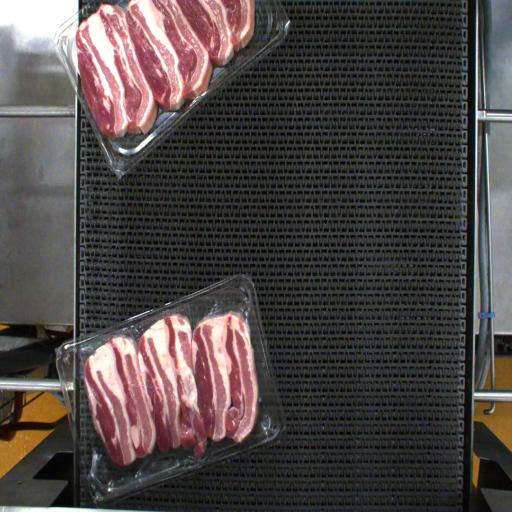unsealed: (64, 298, 280, 462)
